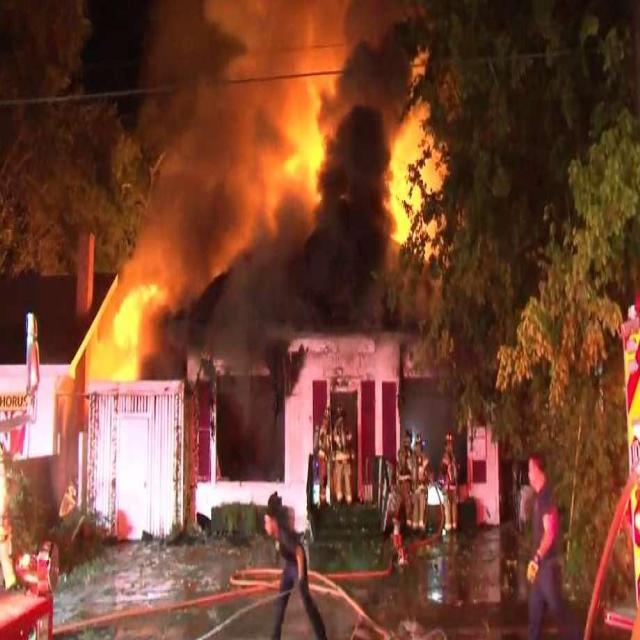Fire: (72, 58, 481, 376)
